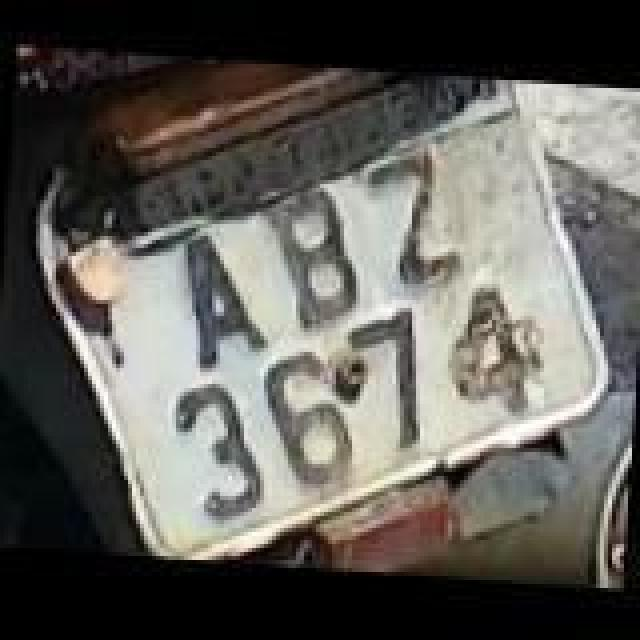3: (164, 378, 268, 526)
4: (448, 282, 544, 422)
6: (260, 344, 364, 496)
7: (344, 304, 432, 448)
A: (174, 228, 274, 380)
B: (254, 184, 370, 336)
Z: (358, 146, 474, 294)
